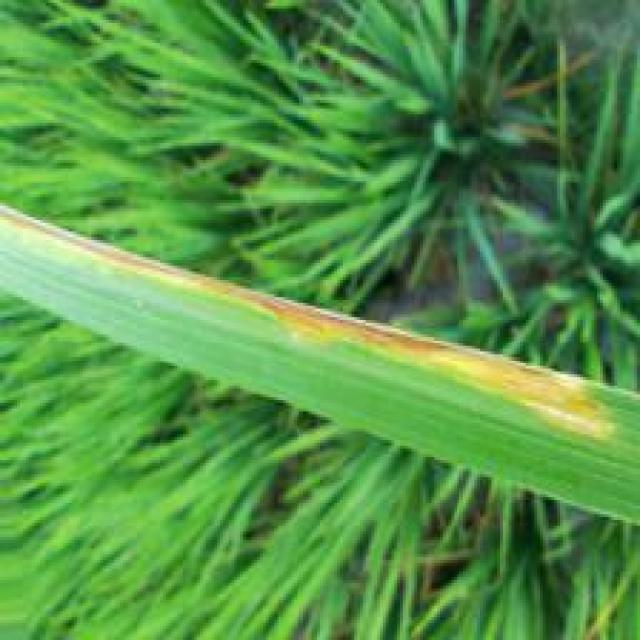Bacterial_Leaf_Blight: (0, 205, 612, 441)
